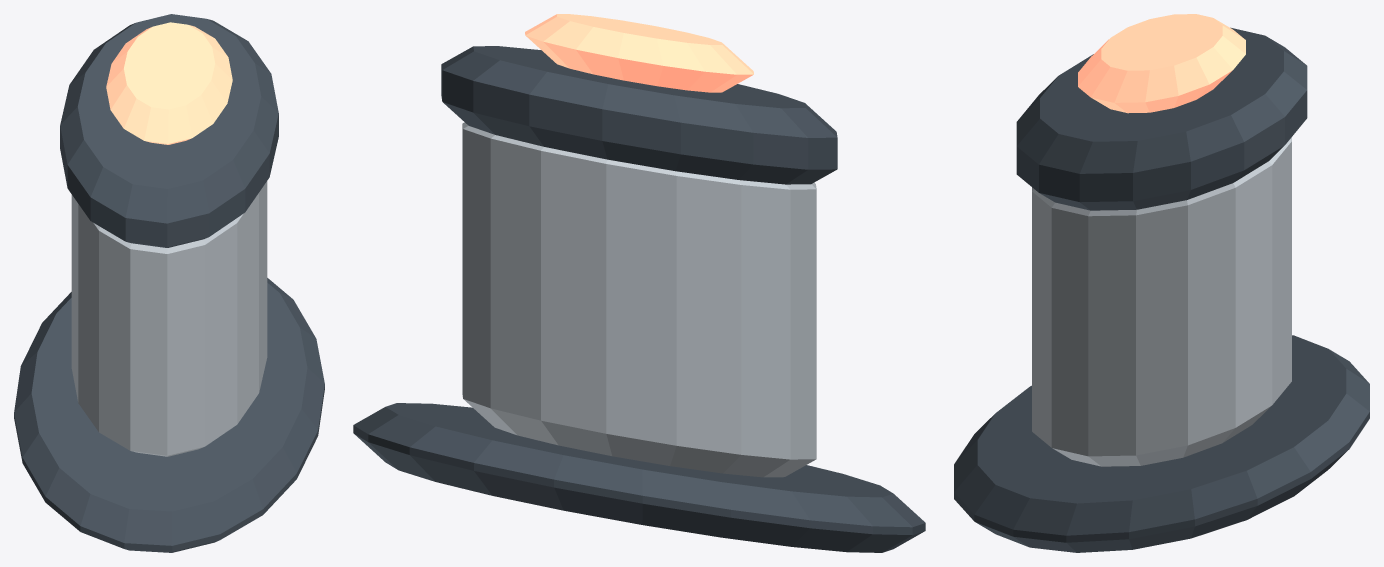
The model's file is Laser_Up.gltf.
The picture shows the model from 3 angles, left to right: view 1: azimuth 30°, elevation 25°; view 2: azimuth 150°, elevation 25°; view 3: azimuth 270°, elevation 25°; orthographic projection. The views are drawn at different scales.
Parts seen in each view (by area): view 1: Laser_Up_baked; view 2: Laser_Up_baked; view 3: Laser_Up_baked.
Boxes of the visible parts, bbox=[...] form: Laser_Up_baked: bbox=[14, 14, 324, 552]; Laser_Up_baked: bbox=[353, 14, 925, 552]; Laser_Up_baked: bbox=[954, 14, 1369, 552].
Bounding box in the file's own units: 0.5792 × 0.7258 × 0.5334.
